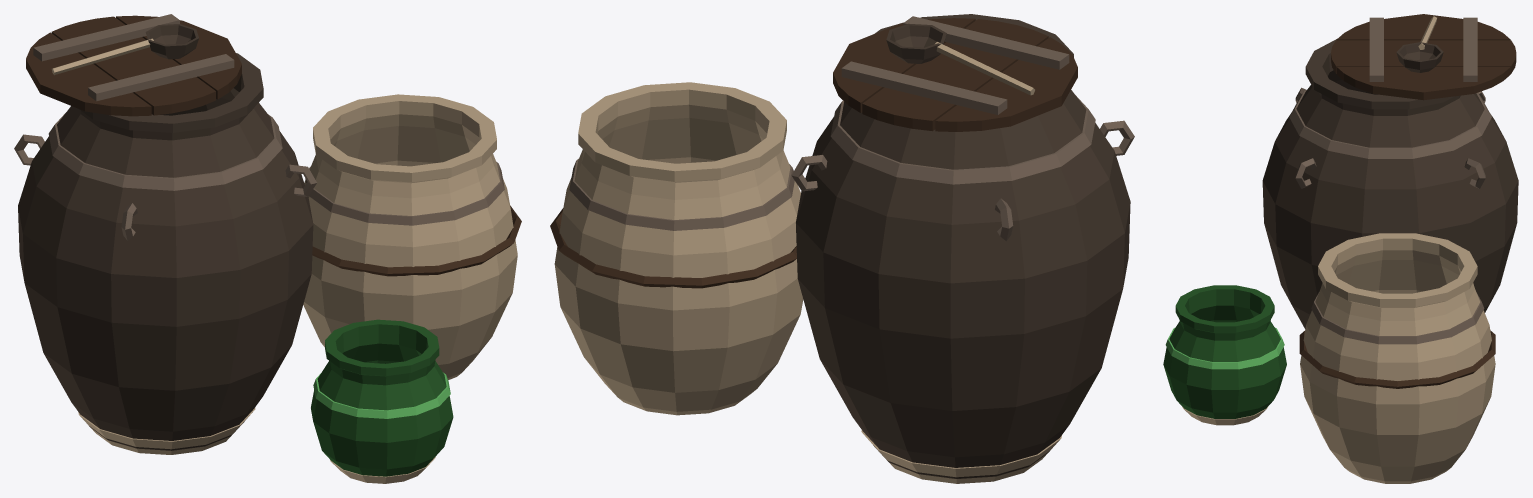
3 views of the same model, side by side, from view 1: azimuth 30°, elevation 25°; view 2: azimuth 150°, elevation 25°; view 3: azimuth 270°, elevation 25° (orthographic). The views are drawn at different scales.
Parts seen in each view (by area): view 1: big_jar-muddy-brown, clay_jar-bright-boat-colours, small_pot-palm-green-dark, lid-dark-wood, big_jar-muddy-brown-light, lid-muddy-brown-light, clay_jar-muddy-brown-light, clay_jar-dark-wood, big_jar-bright-boat-colours, ladle-muddy-brown, small_pot-palm-green-light, ladle-bright-boat-colours (+1 smaller); view 2: big_jar-muddy-brown, clay_jar-bright-boat-colours, lid-dark-wood, big_jar-muddy-brown-light, lid-muddy-brown-light, clay_jar-muddy-brown-light, clay_jar-dark-wood, big_jar-bright-boat-colours, ladle-muddy-brown, ladle-bright-boat-colours; view 3: big_jar-muddy-brown, clay_jar-bright-boat-colours, small_pot-palm-green-dark, lid-dark-wood, big_jar-muddy-brown-light, lid-muddy-brown-light, clay_jar-dark-wood, clay_jar-muddy-brown-light, small_pot-palm-green-light, ladle-muddy-brown, small_pot-bright-boat-colours.
Boxes of the visible parts, left/top/right/bottom form: big_jar-muddy-brown: left=18, top=53, right=313, bottom=450; clay_jar-bright-boat-colours: left=303, top=94, right=517, bottom=379; small_pot-palm-green-dark: left=311, top=319, right=453, bottom=476; lid-dark-wood: left=26, top=15, right=241, bottom=116; big_jar-muddy-brown-light: left=14, top=113, right=316, bottom=240; lid-muddy-brown-light: left=33, top=14, right=234, bottom=101; clay_jar-muddy-brown-light: left=305, top=162, right=504, bottom=225; clay_jar-dark-wood: left=312, top=205, right=521, bottom=276; big_jar-bright-boat-colours: left=78, top=407, right=255, bottom=454; ladle-muddy-brown: left=145, top=24, right=198, bottom=59; small_pot-palm-green-light: left=313, top=372, right=450, bottom=418; ladle-bright-boat-colours: left=51, top=38, right=153, bottom=75; big_jar-muddy-brown: left=796, top=14, right=1130, bottom=478; clay_jar-bright-boat-colours: left=554, top=82, right=803, bottom=415; lid-dark-wood: left=833, top=18, right=1077, bottom=131; big_jar-muddy-brown-light: left=791, top=95, right=1134, bottom=241; lid-muddy-brown-light: left=841, top=16, right=1069, bottom=114; clay_jar-muddy-brown-light: left=569, top=158, right=794, bottom=230; clay_jar-dark-wood: left=550, top=208, right=796, bottom=288; big_jar-bright-boat-colours: left=861, top=430, right=1061, bottom=483; ladle-muddy-brown: left=886, top=23, right=946, bottom=63; ladle-bright-boat-colours: left=935, top=42, right=1034, bottom=95; big_jar-muddy-brown: left=1262, top=38, right=1518, bottom=328; clay_jar-bright-boat-colours: left=1300, top=233, right=1495, bottom=483; small_pot-palm-green-dark: left=1163, top=285, right=1286, bottom=418; lid-dark-wood: left=1331, top=14, right=1516, bottom=100; big_jar-muddy-brown-light: left=1289, top=87, right=1491, bottom=188; lid-muddy-brown-light: left=1369, top=17, right=1477, bottom=81; clay_jar-dark-wood: left=1299, top=330, right=1495, bottom=388; clay_jar-muddy-brown-light: left=1311, top=293, right=1484, bottom=344; small_pot-palm-green-light: left=1165, top=327, right=1284, bottom=369; ladle-muddy-brown: left=1396, top=42, right=1443, bottom=72; small_pot-bright-boat-colours: left=1182, top=406, right=1268, bottom=425.
Size of the model in its own units: 1.3 by 0.9768 by 0.988.
